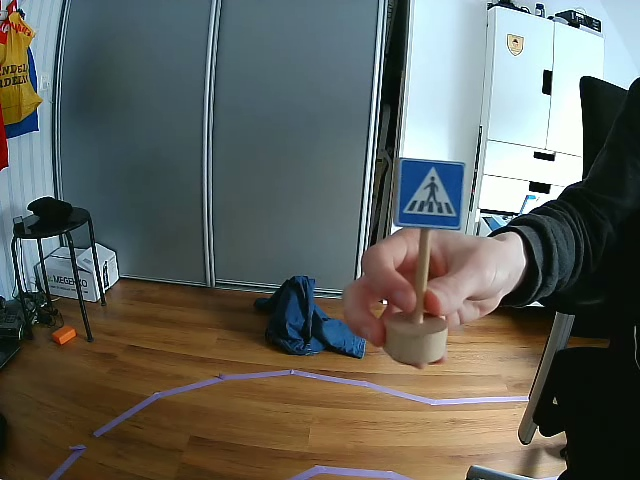zebrapad: (394, 159, 466, 227)
